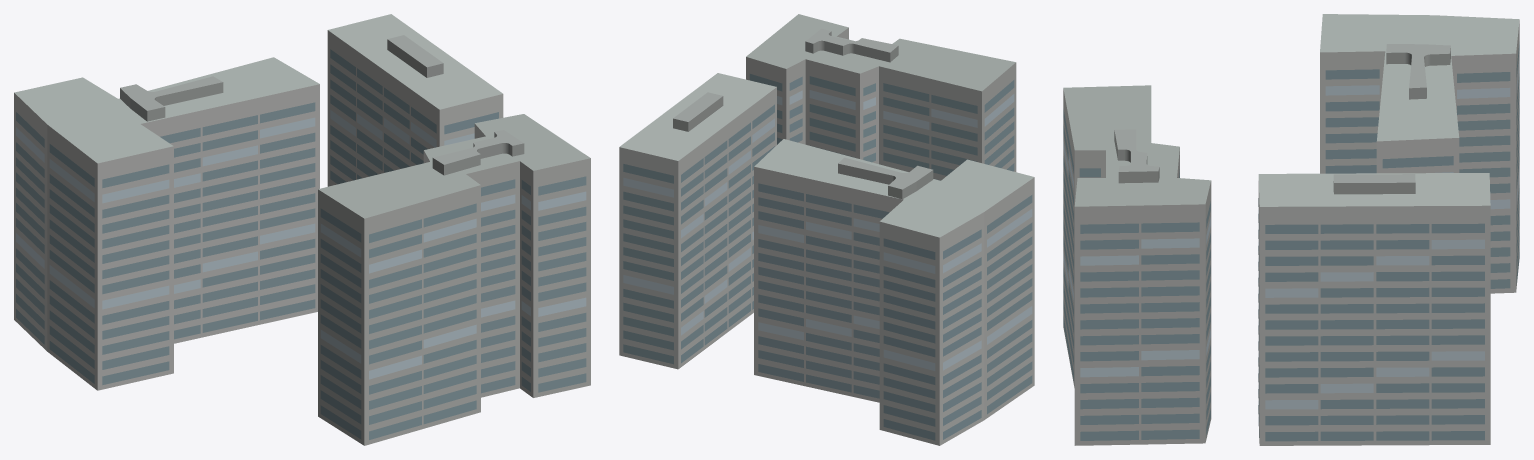
The model's file is apt-a15785703.glb.
The picture shows the model from 3 angles, left to right: view 1: azimuth 30°, elevation 25°; view 2: azimuth 150°, elevation 25°; view 3: azimuth 270°, elevation 25°; orthographic projection. The views are drawn at different scales.
Parts seen in each view (by area): view 1: apt-a15785703; view 2: apt-a15785703; view 3: apt-a15785703.
Part boxes in pixels (x1=…): apt-a15785703: x1=14, y1=14, x2=590, y2=445; apt-a15785703: x1=619, y1=14, x2=1034, y2=445; apt-a15785703: x1=1063, y1=14, x2=1519, y2=445.
Bounding box in the file's own units: 66.17 × 40 × 66.09.
